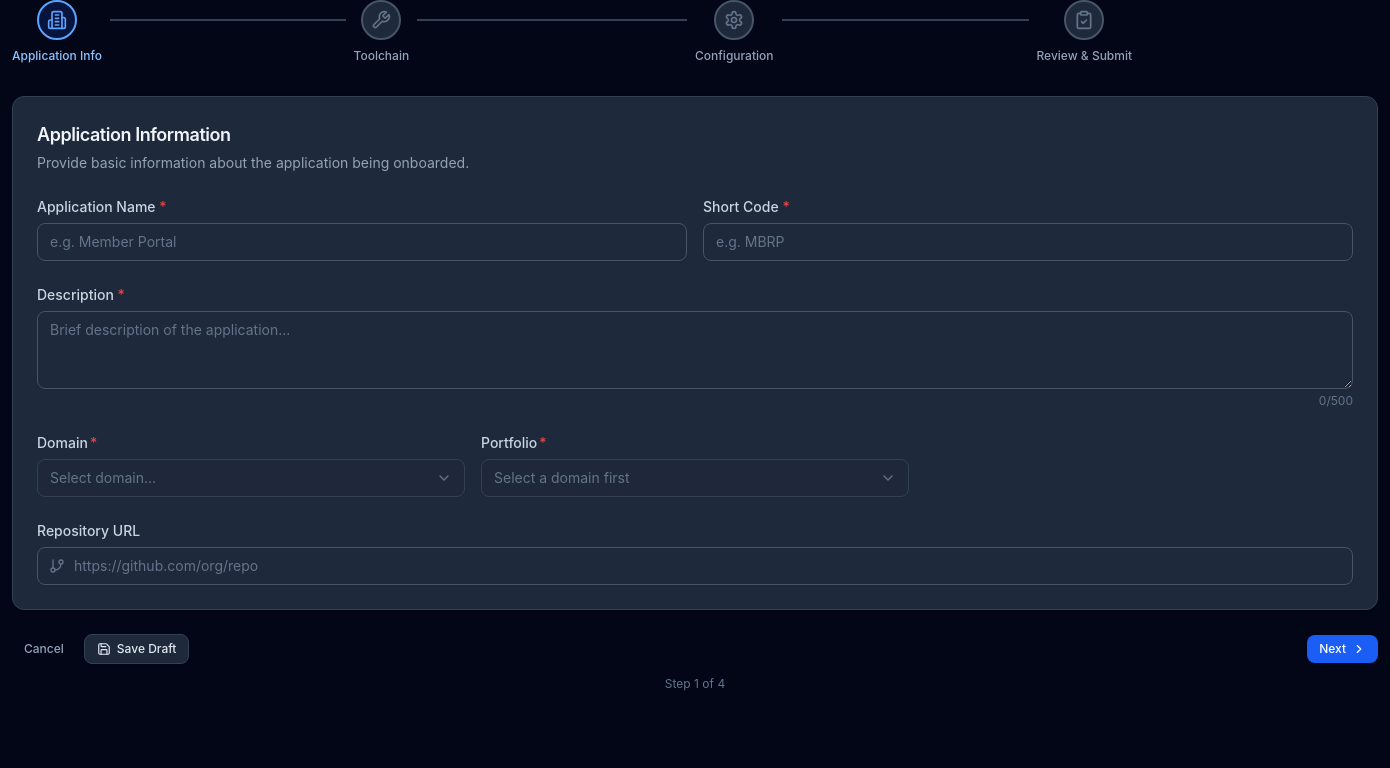
Scenario: Step 1 validation › shows validation errors when Next is clicked with empty fields
Step 1. Click the button "Next" → click(1343, 649), box x1=1307 y1=635 x2=1378 y2=663
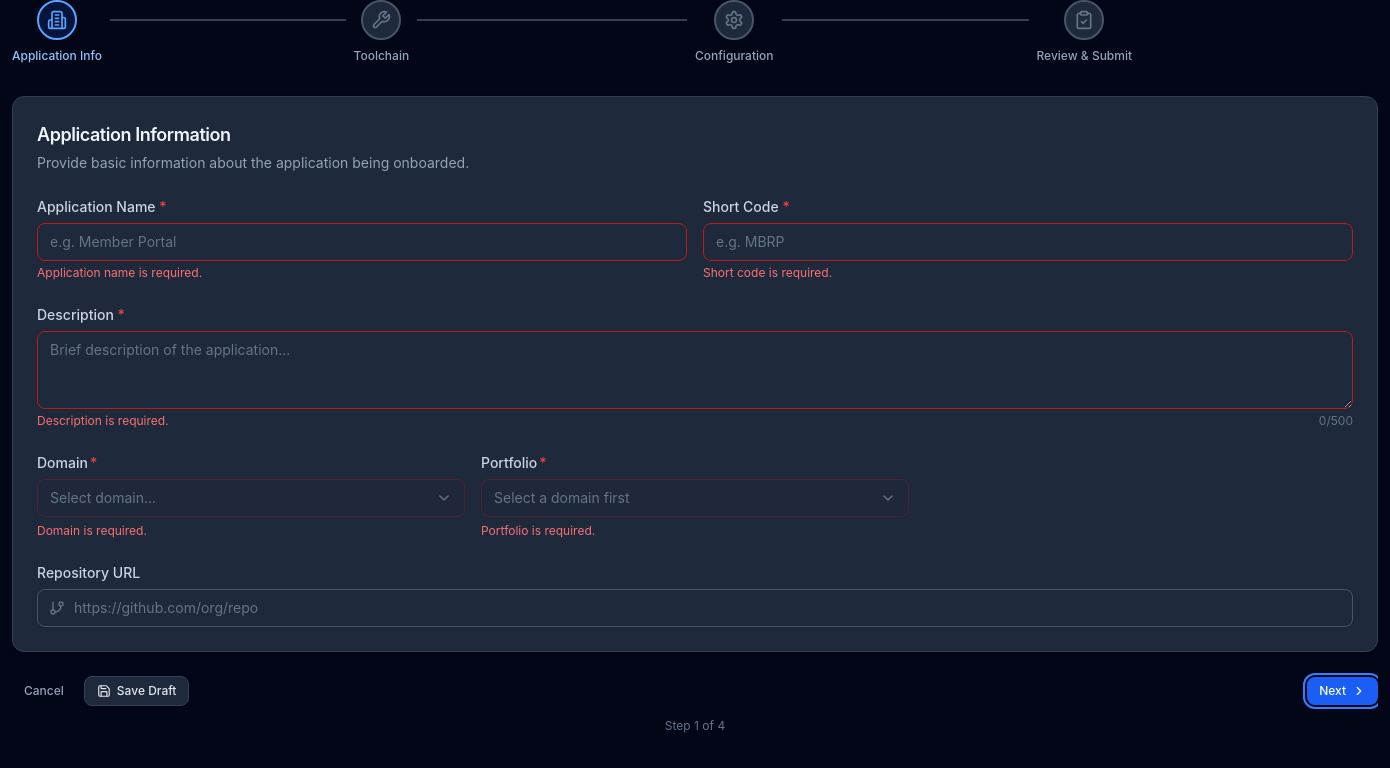
Expected: the text "Step 1 of 4" is shown, x1=665 y1=718 x2=725 y2=733
Expected: the text "Application name is required." is shown, x1=37 y1=265 x2=202 y2=280
